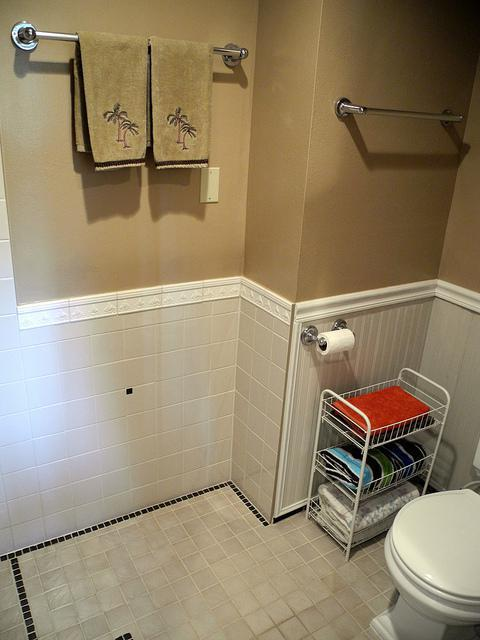Sanitario: (370, 435, 478, 638)
